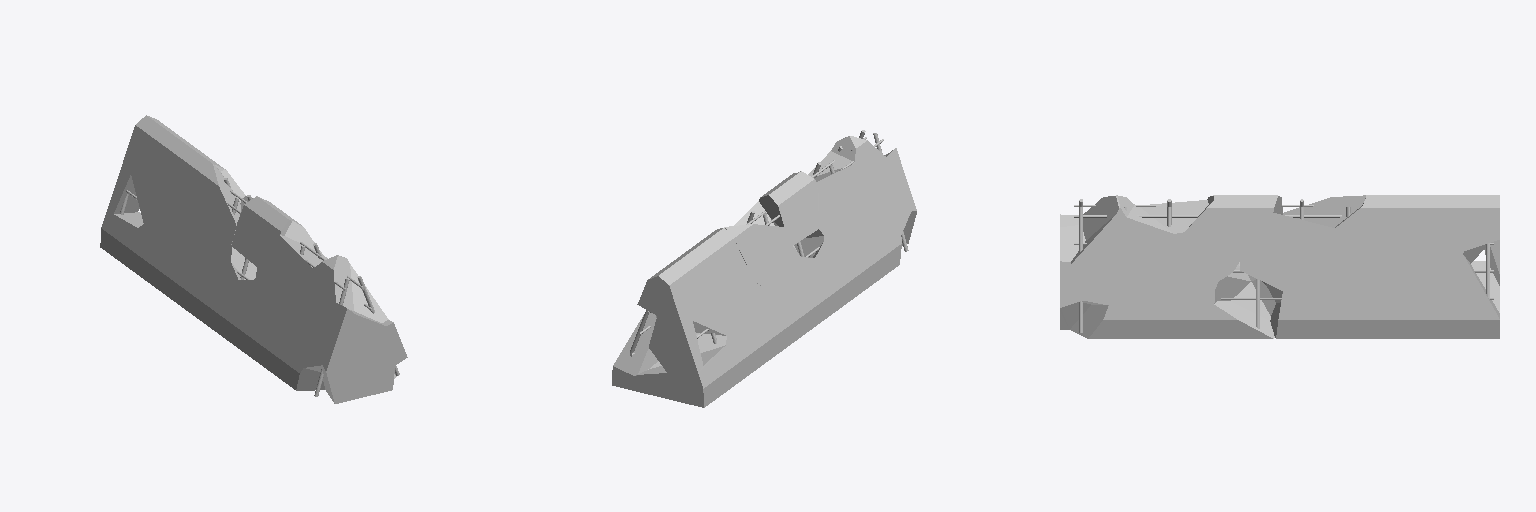
Rendered from road.obj.
3 views of the same model, side by side, from view 1: azimuth 30°, elevation 25°; view 2: azimuth 150°, elevation 25°; view 3: azimuth 270°, elevation 25° (orthographic).
Visible parts, largest first — view 1: Box001_Part_57, Box001_Part_59, Box001_Part_28, Box001_Part_47, Box001_Part_19, Box001_Part_51, Box001_Part_69, Box001_Part_1, Box001_Part_67, Box001_Part_23, Box001_Part_11, Box001_Part_64 (+16 smaller); view 2: Box001_Part_51, Box001_Part_57, Box001_Part_40, Box001_Part_59, Box001_Part_1, Box001_Part_28, Box001_Part_69, Box001_Part_23, Box001_Part_67, Box001_Part_19, Box001_Part_54, Box001_Part_11 (+14 smaller); view 3: Box001_Part_54, Box001_Part_43, Box001_Part_20, Box001_Part_63, Box001_Part_3, Box001_Part_26, Box001_Part_10, Box001_Part_22, Box001_Part_56, Box001_Part_58, Box001_Part_9, Box001_Part_36 (+20 smaller).
Part boxes in pixels (left/top/right/bottom): Box001_Part_57: left=190, top=164, right=240, bottom=253; Box001_Part_59: left=140, top=223, right=191, bottom=293; Box001_Part_28: left=306, top=255, right=353, bottom=325; Box001_Part_47: left=323, top=303, right=362, bottom=369; Box001_Part_19: left=270, top=235, right=327, bottom=298; Box001_Part_51: left=100, top=212, right=143, bottom=275; Box001_Part_69: left=229, top=280, right=259, bottom=358; Box001_Part_1: left=235, top=196, right=292, bottom=242; Box001_Part_67: left=205, top=263, right=240, bottom=340; Box001_Part_23: left=165, top=239, right=208, bottom=313; Box001_Part_11: left=146, top=166, right=195, bottom=224; Box001_Part_64: left=152, top=132, right=203, bottom=182; Box001_Part_51: left=627, top=345, right=742, bottom=407; Box001_Part_57: left=725, top=224, right=791, bottom=287; Box001_Part_40: left=649, top=310, right=702, bottom=372; Box001_Part_59: left=728, top=282, right=770, bottom=375; Box001_Part_1: left=759, top=171, right=817, bottom=232; Box001_Part_28: left=831, top=136, right=890, bottom=191; Box001_Part_69: left=813, top=242, right=856, bottom=312; Box001_Part_23: left=764, top=278, right=795, bottom=359; Box001_Part_67: left=795, top=257, right=832, bottom=329; Box001_Part_19: left=814, top=164, right=853, bottom=225; Box001_Part_54: left=612, top=313, right=657, bottom=386; Box001_Part_11: left=725, top=243, right=754, bottom=330; Box001_Part_54: left=1422, top=250, right=1499, bottom=338; Box001_Part_43: left=1112, top=279, right=1189, bottom=338; Box001_Part_20: left=1182, top=200, right=1245, bottom=282; Box001_Part_63: left=1071, top=213, right=1137, bottom=295; Box001_Part_3: left=1127, top=206, right=1188, bottom=284; Box001_Part_26: left=1276, top=286, right=1338, bottom=338; Box001_Part_10: left=1386, top=272, right=1438, bottom=338; Box001_Part_22: left=1240, top=219, right=1291, bottom=290; Box001_Part_56: left=1384, top=196, right=1440, bottom=271; Box001_Part_58: left=1362, top=195, right=1402, bottom=276; Box001_Part_9: left=1197, top=301, right=1274, bottom=338; Box001_Part_36: left=1169, top=274, right=1216, bottom=338.
Size of the model in its own units: 5.88 by 7.4 by 24.33.